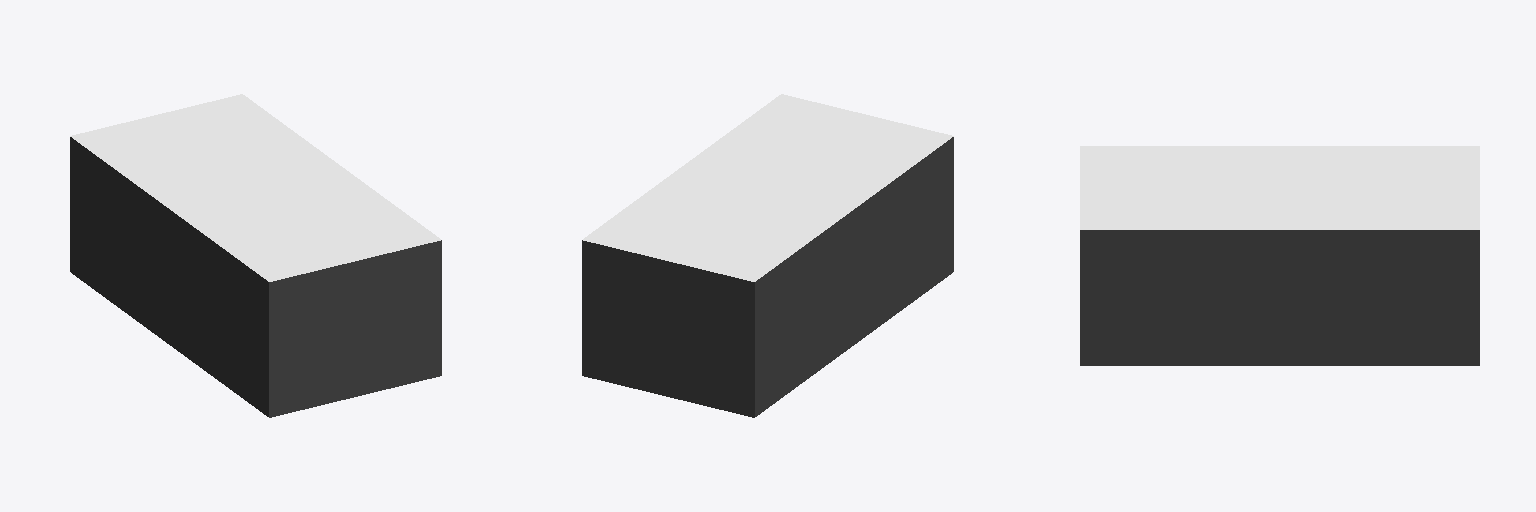
File: applejack.obj
The picture shows the model from 3 angles: view 1: azimuth 30°, elevation 25°; view 2: azimuth 150°, elevation 25°; view 3: azimuth 270°, elevation 25°; orthographic projection.
Parts seen in each view (by area): view 1: Cube; view 2: Cube; view 3: Cube.
Boxes of the visible parts, <box> form: Cube: <box>70,94,441,417</box>; Cube: <box>582,94,953,417</box>; Cube: <box>1080,146,1479,365</box>.
Bounding box in the file's own units: 4 × 3 × 8.